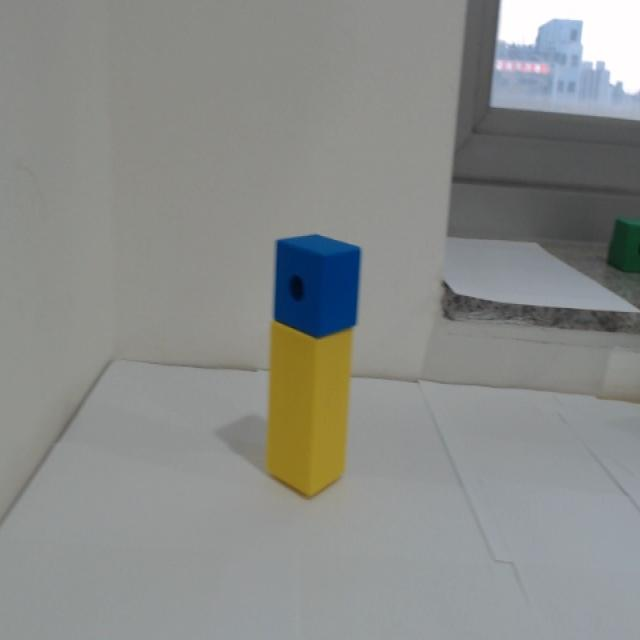cube: (271, 230, 364, 340)
